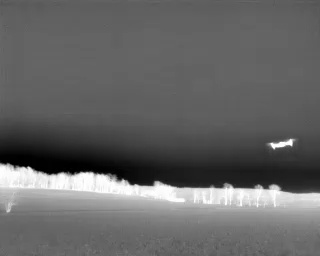DRONE: (262, 132, 301, 155)
